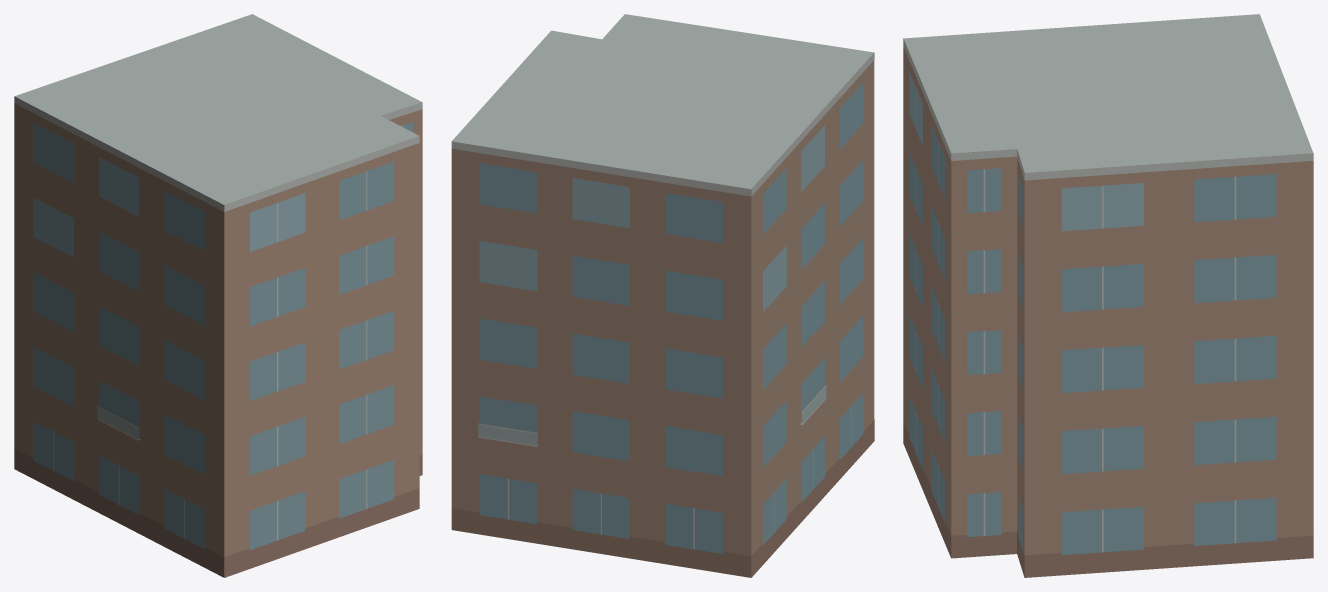
The model's file is survey-upis-32711863.glb.
The picture shows the model from 3 angles, left to right: view 1: azimuth 30°, elevation 25°; view 2: azimuth 150°, elevation 25°; view 3: azimuth 270°, elevation 25°; orthographic projection. The views are drawn at different scales.
Parts seen in each view (by area): view 1: survey-upis-32711863.tmp; view 2: survey-upis-32711863.tmp; view 3: survey-upis-32711863.tmp.
Part boxes in pixels (x1,y1,x2,y2): survey-upis-32711863.tmp: [14, 14, 422, 577]; survey-upis-32711863.tmp: [451, 14, 874, 577]; survey-upis-32711863.tmp: [903, 14, 1313, 577].
Size of the model in its own units: 11.13 by 13.2 by 12.13.
